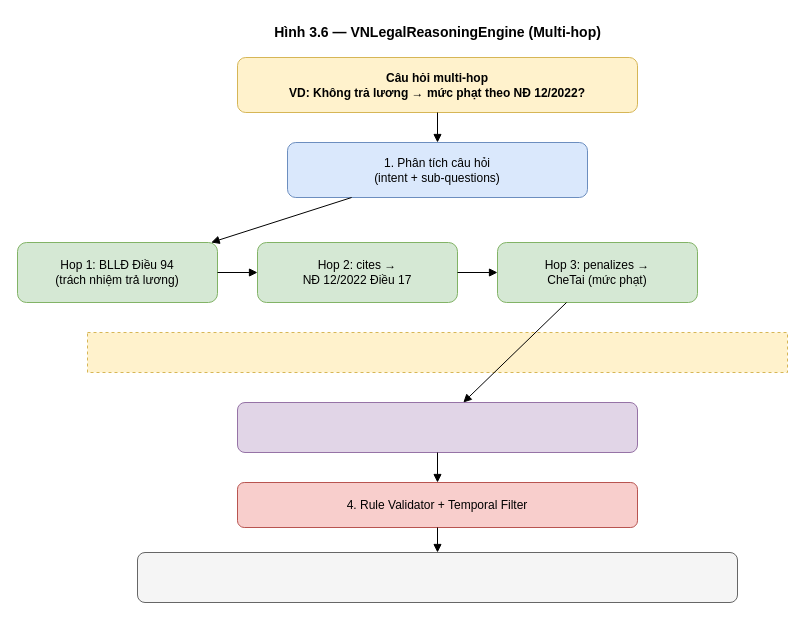
Some shapes in this 805 by 620 pixel diagram are drawn without their labels. The centre of each missing label's shape, as x and y in pixels:
2. Duyệt đồ thị theo quan hệ: cites, guided_by, penalizes, amends: the point at 437,352
3. Tổng hợp evidence chain + text_units: the point at 437,427
Câu trả lời có chuỗi trích dẫn: BLLĐ Đ.94 → NĐ12 Đ.17 → mức phạt X: the point at 437,577
